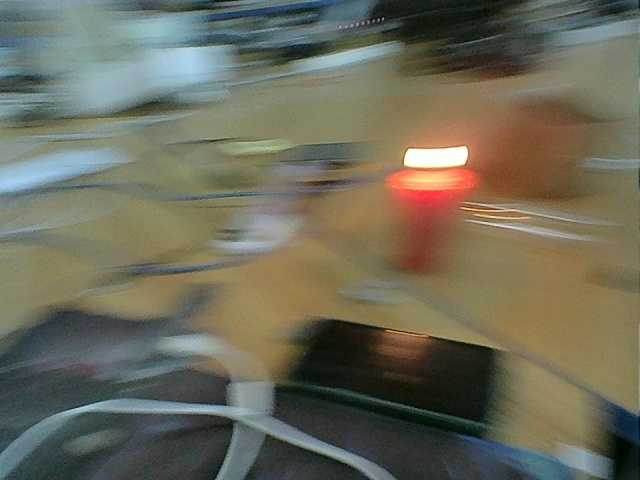candle: (388, 179, 460, 275)
fire: (400, 143, 472, 170)
